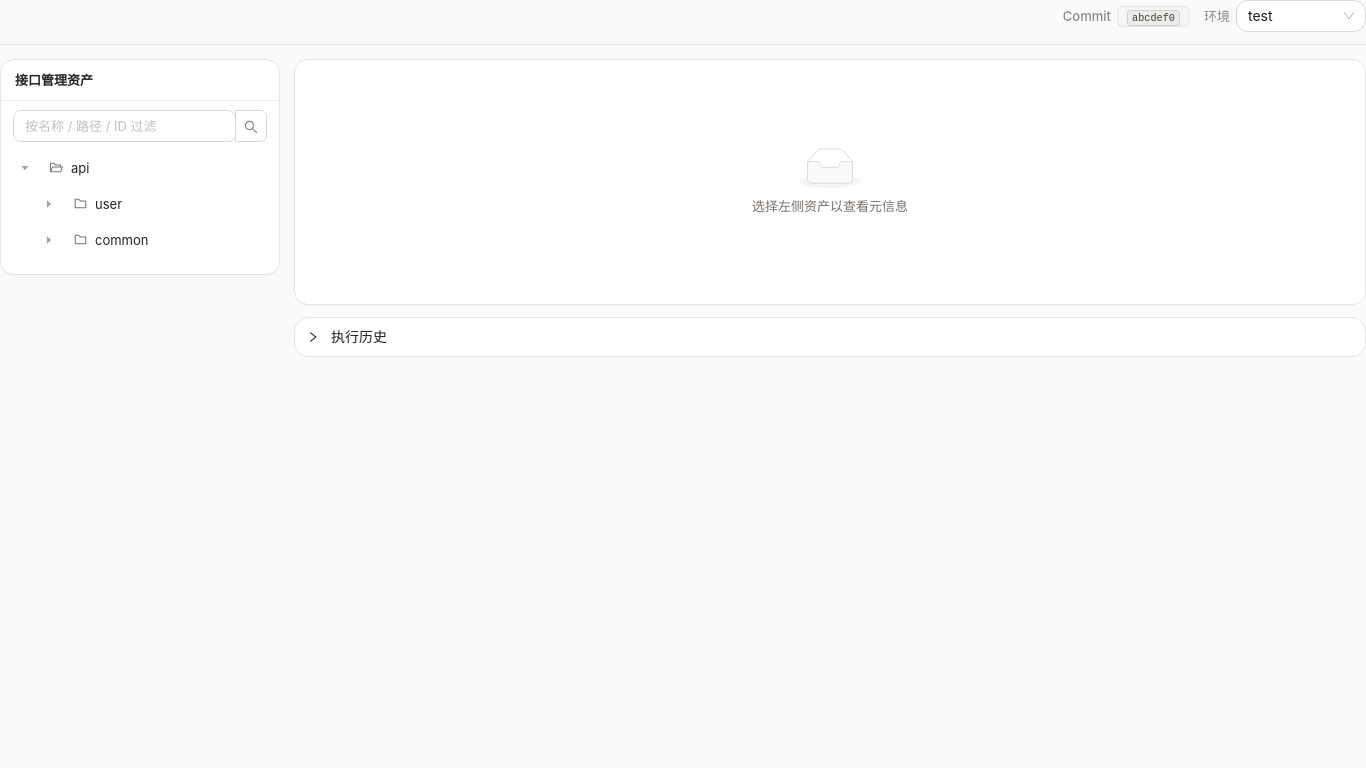
Test: ProjectWorkspacePage 集成 › 接口管理只展示 API，不混入文档和场景，也不包含配置编辑入口
Expected: the element with test id "asset-browser" is shown, [1,60,279,274]
Step 1. Click the button "执行历史" → (347, 337), box [307,328,387,345]
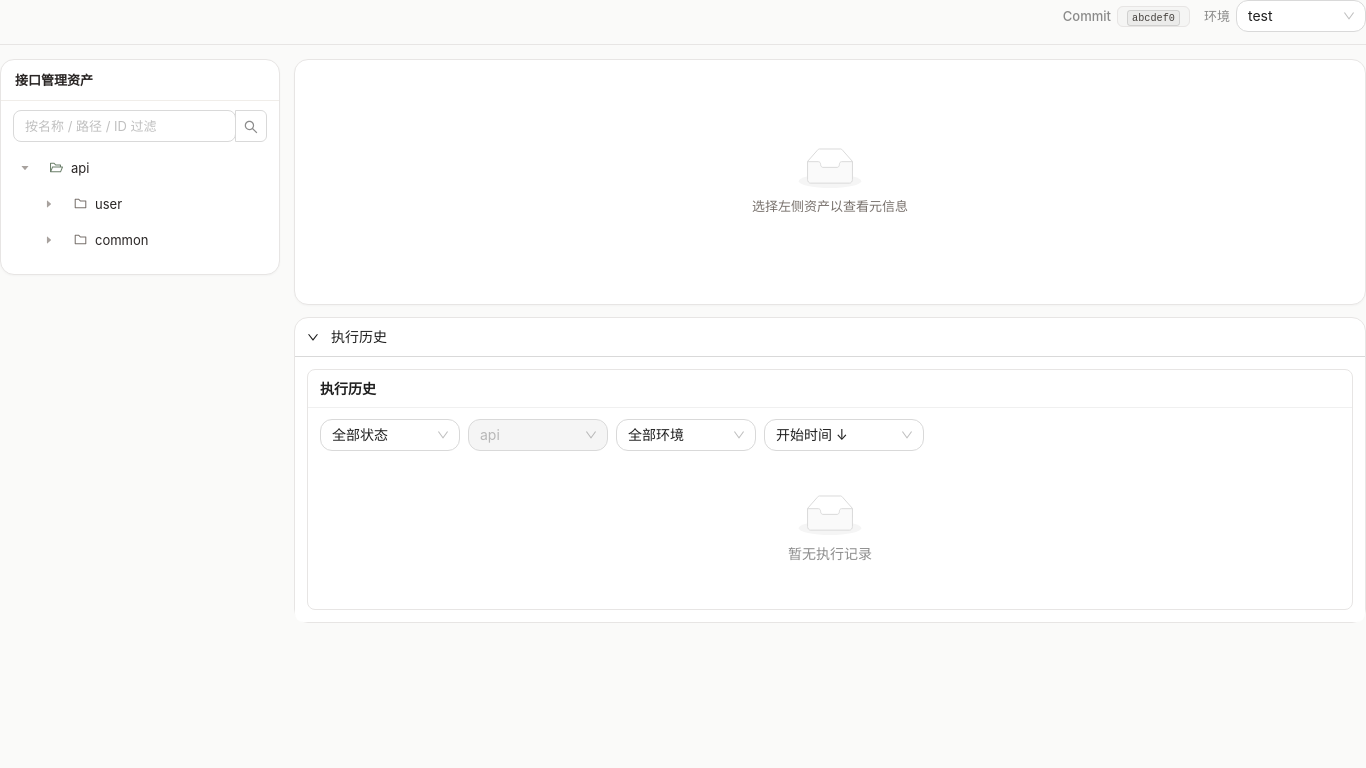
Expected: the element named "按资产类型筛选" is disabled, [480,420,596,450]
